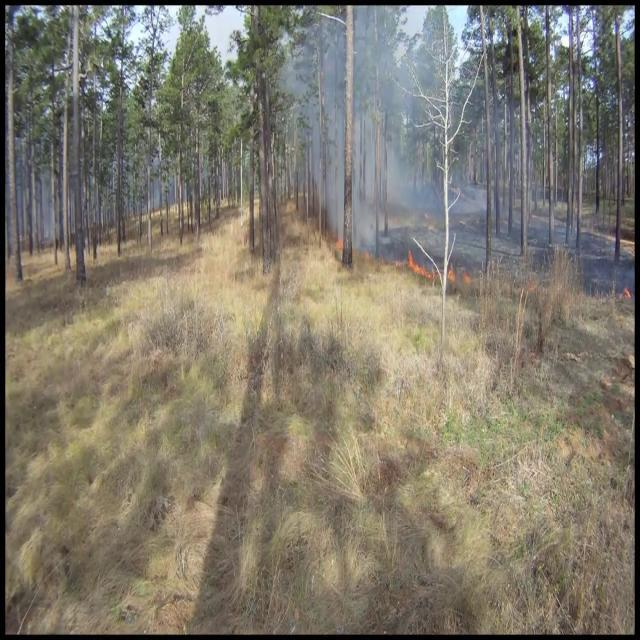Smoke: (311, 8, 473, 250)
